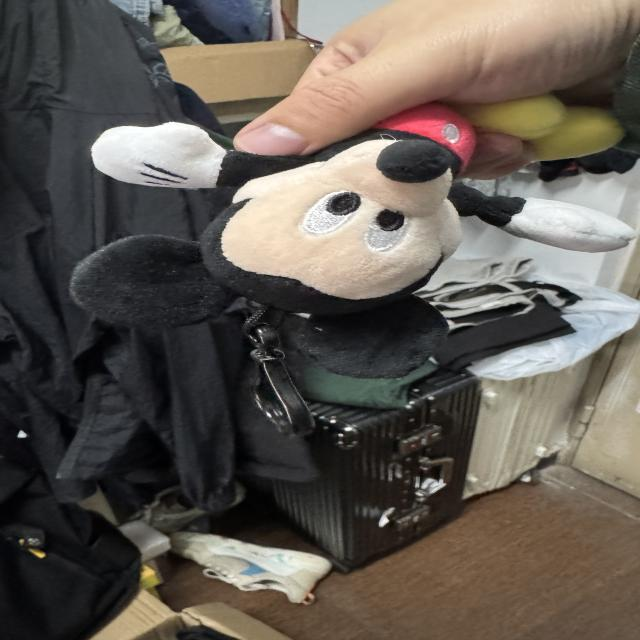mickey: (71, 105, 634, 377)
